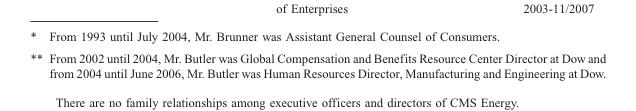table: (29, 28, 605, 79)
table column: (45, 28, 605, 79), (29, 28, 45, 79)
table row: (29, 46, 605, 79), (29, 28, 605, 46)
